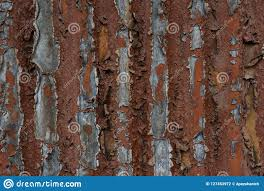rust: (160, 9, 202, 176), (6, 2, 46, 177), (49, 3, 88, 174), (86, 6, 125, 173), (198, 2, 236, 171), (124, 4, 158, 170), (240, 3, 264, 175)
